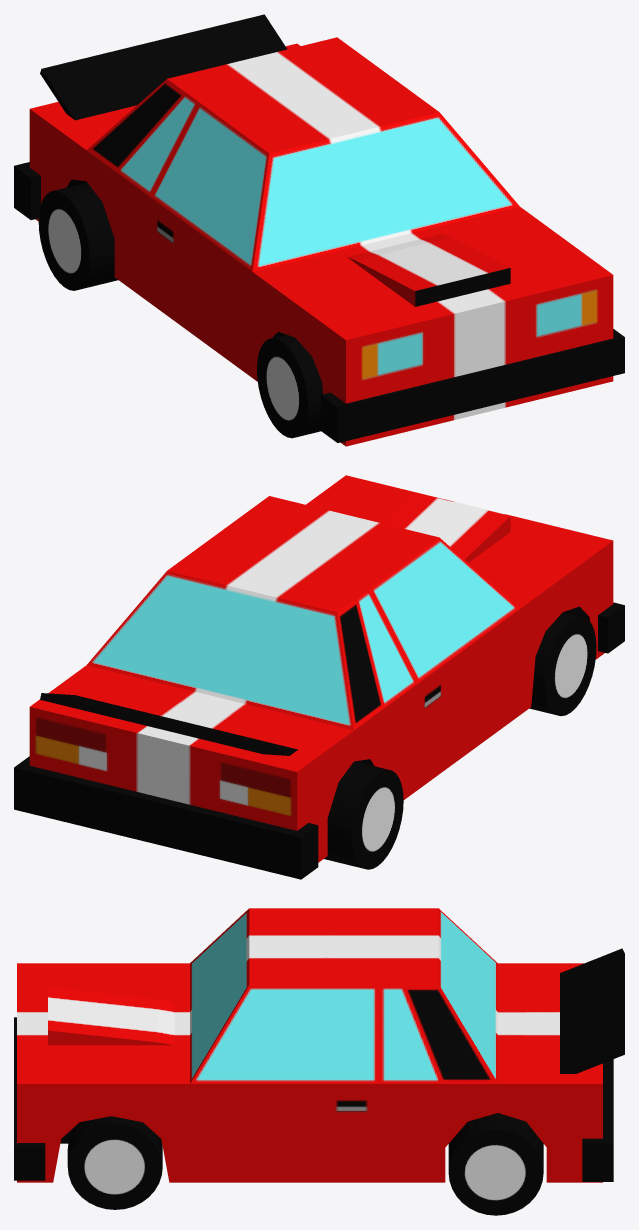
File: First.fbx
3 views of the same model, one above another, from view 1: azimuth 30°, elevation 25°; view 2: azimuth 150°, elevation 25°; view 3: azimuth 270°, elevation 25° (orthographic). The views are drawn at different scales.
Visible parts, largest first — view 1: RBump.006, RBump.005, RBump.001, RBump.007, RBump, RBump.004; view 2: RBump.006, RBump.004, RBump.007, RBump, RBump.001, RBump.005; view 3: RBump.006, RBump.002, RBump.003, RBump.001, RBump.004, RBump.005.
Part boxes in pixels (x1,y1,x2,y2): RBump.006: [29, 37, 613, 446]; RBump.005: [320, 329, 624, 442]; RBump.001: [40, 14, 287, 120]; RBump.007: [38, 182, 118, 290]; RBump: [257, 334, 322, 438]; RBump.004: [14, 162, 40, 219]; RBump.006: [29, 475, 613, 862]; RBump.004: [14, 756, 318, 879]; RBump.007: [324, 761, 403, 869]; RBump: [529, 612, 596, 716]; RBump.001: [40, 693, 297, 755]; RBump.005: [598, 602, 624, 653]; RBump.006: [17, 908, 602, 1182]; RBump.002: [448, 1113, 543, 1215]; RBump.003: [67, 1116, 162, 1209]; RBump.001: [560, 948, 624, 1073]; RBump.004: [582, 1059, 613, 1181]; RBump.005: [14, 1017, 45, 1180].
Size of the model in its own units: 475 by 309 by 864.
1 material, 1 textured.
